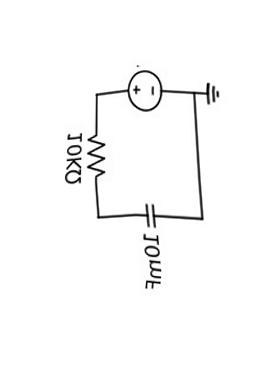Battery: (107, 63, 171, 119)
